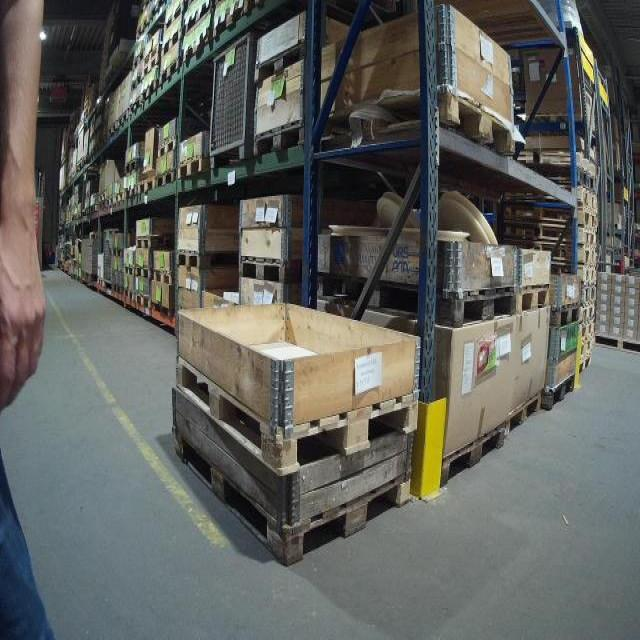pallet: (173, 436, 412, 568), (174, 355, 418, 477), (321, 85, 514, 160), (317, 269, 517, 330), (438, 425, 507, 489), (253, 43, 308, 83), (252, 122, 306, 159), (238, 254, 305, 283), (506, 392, 544, 439), (213, 0, 254, 41), (176, 247, 240, 268), (545, 373, 575, 410), (182, 1, 212, 38), (183, 26, 211, 64), (517, 281, 550, 313), (595, 333, 640, 355), (157, 53, 183, 87), (178, 154, 205, 183), (550, 302, 580, 325), (160, 28, 181, 59), (157, 133, 179, 160), (135, 234, 173, 249), (138, 79, 158, 107), (163, 3, 181, 33), (156, 168, 176, 189), (125, 154, 144, 175), (579, 248, 597, 269), (143, 42, 158, 67), (143, 57, 158, 82), (134, 17, 150, 40), (152, 267, 171, 286), (137, 176, 156, 195), (130, 67, 144, 92), (579, 269, 596, 289), (581, 213, 601, 230), (584, 193, 601, 213), (578, 232, 597, 248), (132, 48, 145, 71), (579, 356, 592, 379), (578, 308, 594, 326), (133, 265, 152, 280), (149, 2, 163, 21), (579, 325, 593, 343), (582, 289, 596, 307), (129, 95, 141, 115), (136, 293, 151, 308), (106, 121, 118, 139), (124, 184, 138, 199), (581, 343, 591, 364), (123, 289, 136, 303), (118, 110, 128, 128), (111, 247, 123, 258), (114, 192, 124, 205), (98, 191, 107, 203), (106, 195, 114, 208), (124, 266, 134, 275)
stillage: (204, 33, 258, 178), (100, 226, 118, 289)
